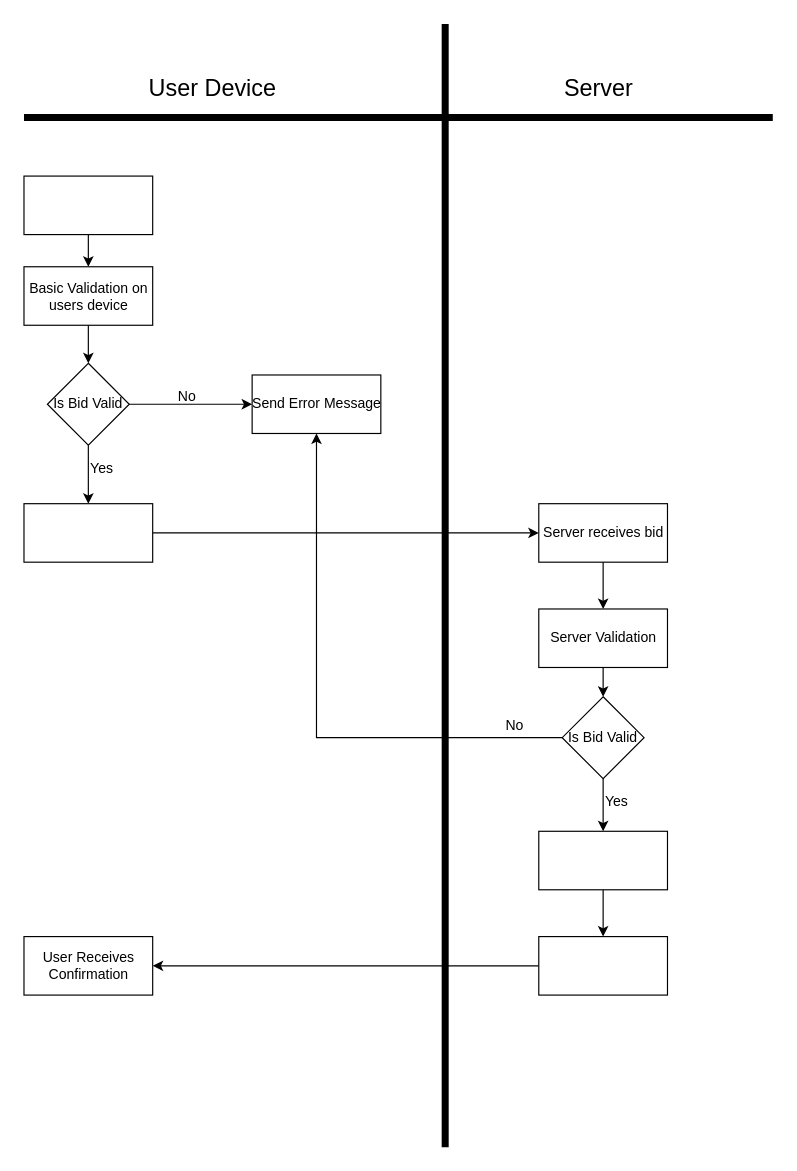
The diagram is 797 pixels wide and 1171 high, and some of its shapes have lost their labels. The shapes that lost their labels are listed below. From the top down, each one's centre as x and y in pixels, then its label:
At [88,205]: "User places bid".
At [88,532]: "Send Bid Data".
At [602,860]: "Add Bid to Database".
At [602,965]: "Send Confirmation to User".
